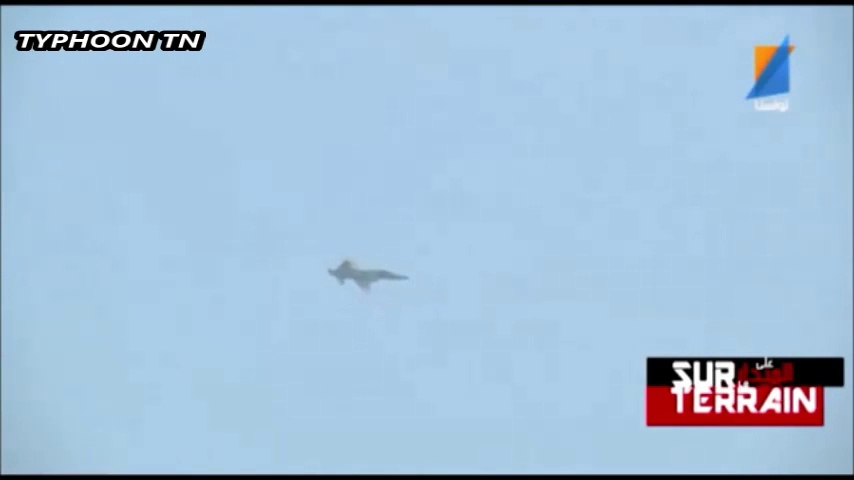Airplane: (326, 258, 412, 291)
